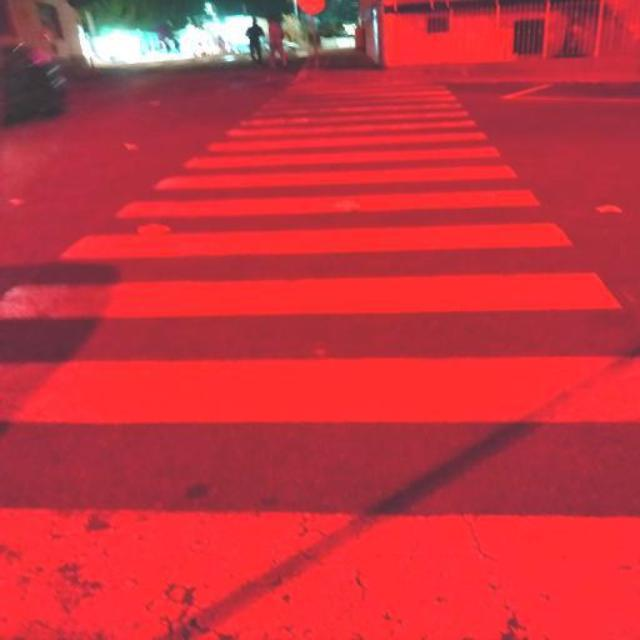sidewalk: (0, 85, 640, 640)
